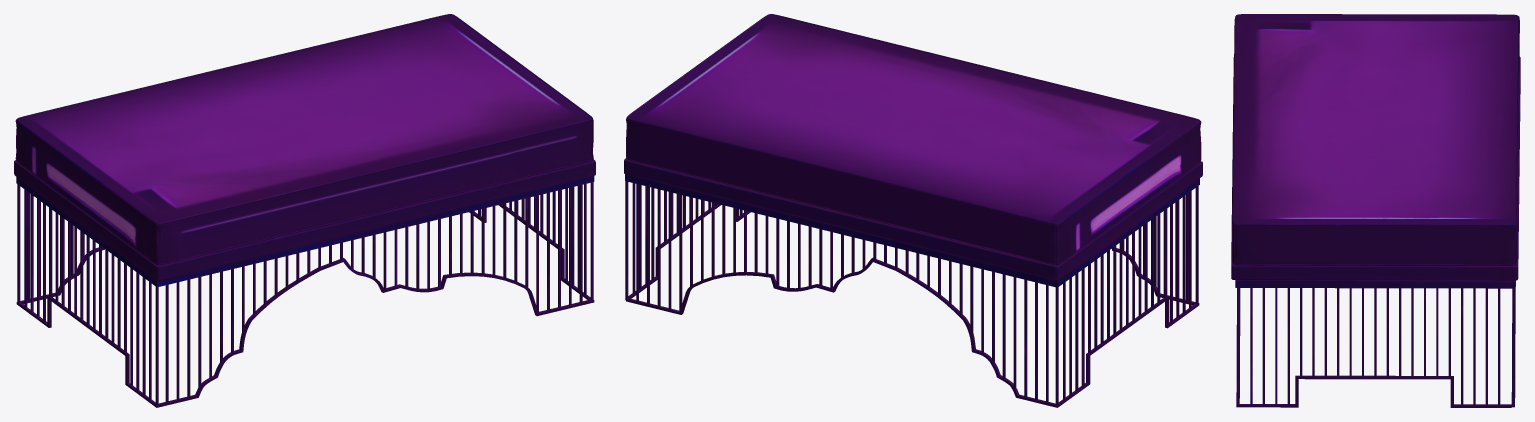
The model's file is edited_mesh.glb.
3 renders of one model, left to right at view 1: azimuth 30°, elevation 25°; view 2: azimuth 150°, elevation 25°; view 3: azimuth 270°, elevation 25°, orthographic.
Visible parts, largest first — view 1: solid_001_wire; view 2: solid_001_wire; view 3: solid_001_wire.
Part boxes in pixels (x1,y1,x2,y2): solid_001_wire: [14, 14, 595, 407]; solid_001_wire: [624, 14, 1202, 407]; solid_001_wire: [1231, 14, 1520, 407].
Size of the model in its own units: 2 by 0.8071 by 1.16.
Materials: 1 (1 with a texture image).
